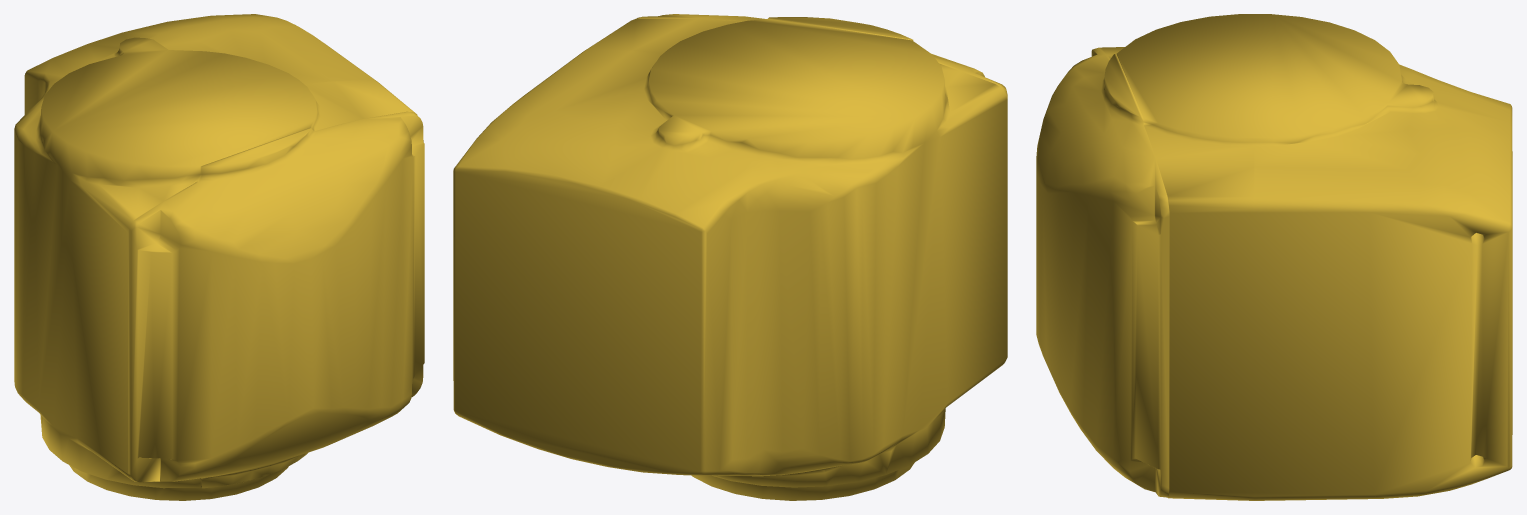
The picture shows the model from 3 angles, left to right: view 1: azimuth 30°, elevation 25°; view 2: azimuth 150°, elevation 25°; view 3: azimuth 270°, elevation 25°; orthographic projection. The views are drawn at different scales.
Bounding box in the file's own units: 138 × 139 × 163.
